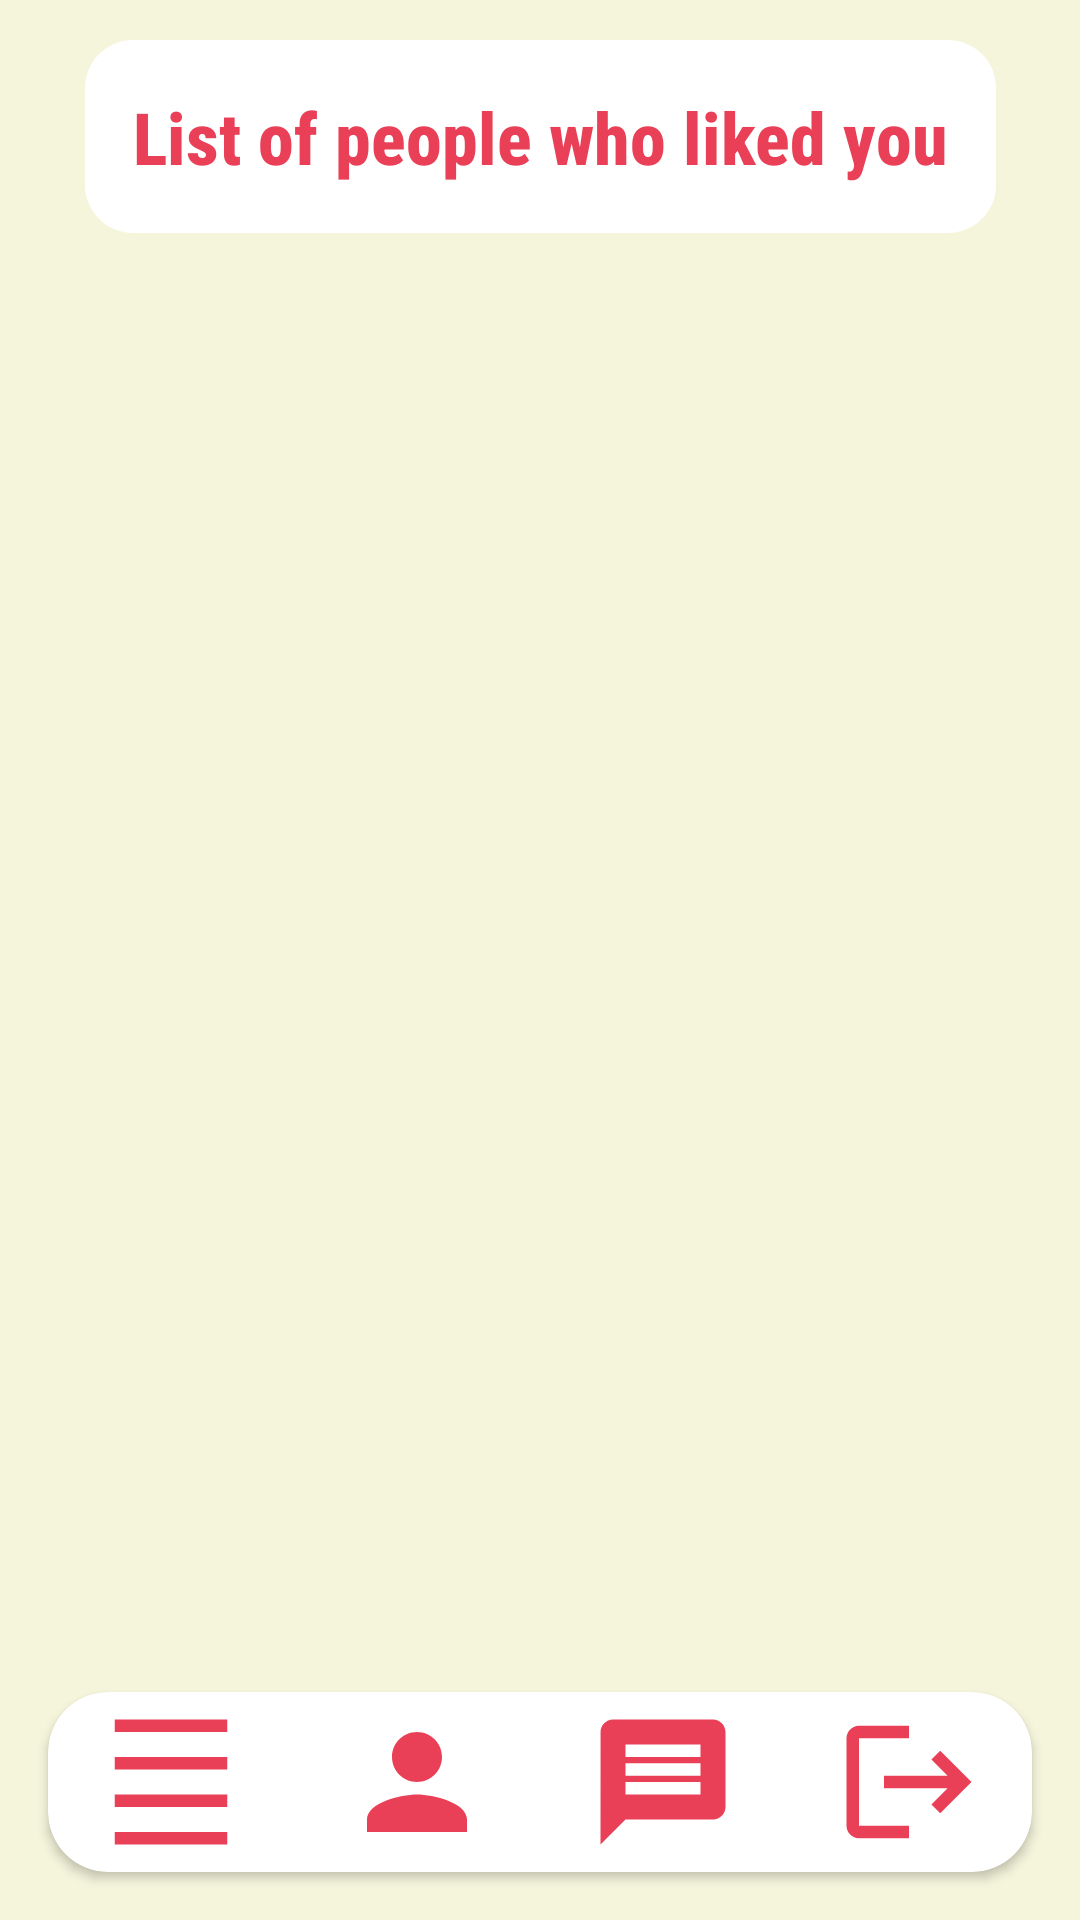

Screen size 1080 x 1920. Icon name, then its box in pixels as (x1, y1, x2, y2):
density: (114, 1719, 228, 1845)
message: (600, 1719, 726, 1844)
person: (367, 1732, 467, 1832)
